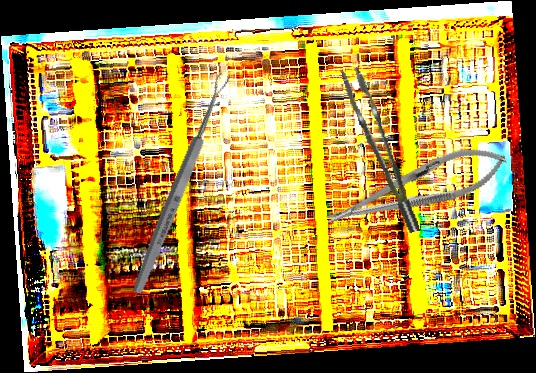Needle Holder: (319, 135, 513, 241)
Surgical Spoon: (129, 71, 233, 296)
Tissue Forceps: (341, 62, 420, 240)
